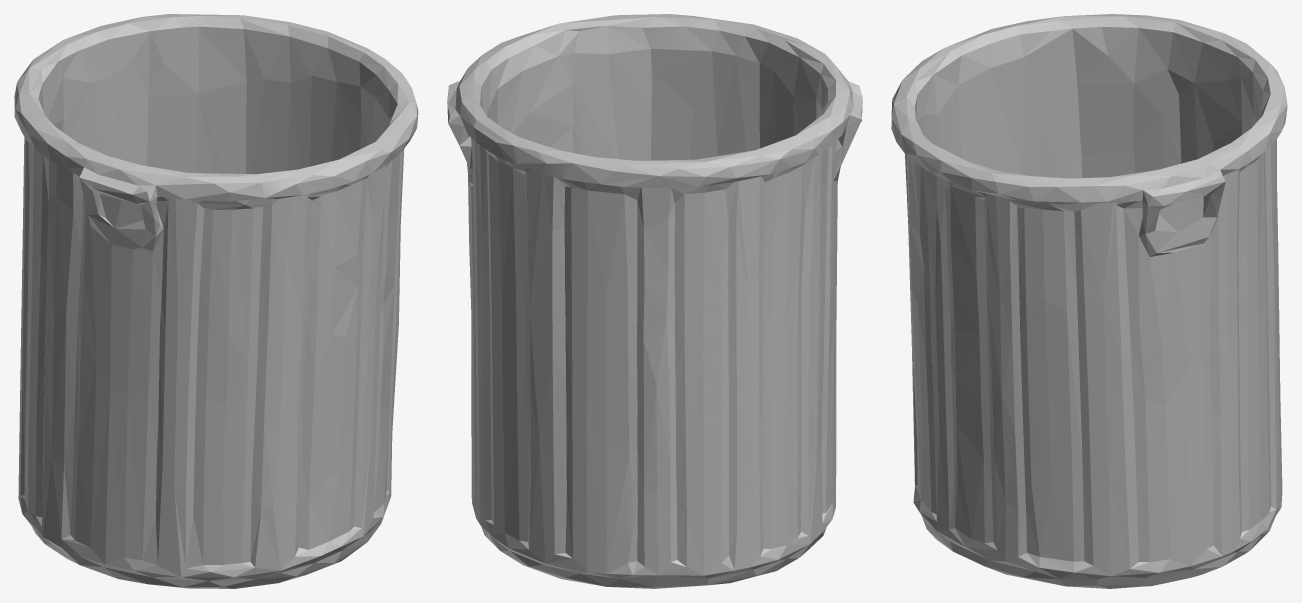
Rendered from trashcan.fbx.
3 renders of one model, left to right at view 1: azimuth 30°, elevation 25°; view 2: azimuth 150°, elevation 25°; view 3: azimuth 270°, elevation 25°, orthographic.
Visible parts, largest first — view 1: Mesh_0; view 2: Mesh_0; view 3: Mesh_0.
Boxes of the visible parts, x1,y1,x2,y2 form: Mesh_0: (14,14,418,588); Mesh_0: (447,14,862,588); Mesh_0: (891,14,1287,588).
Size of the model in its own units: 0.8395 by 1 by 0.8339.
1 material, 1 textured.
